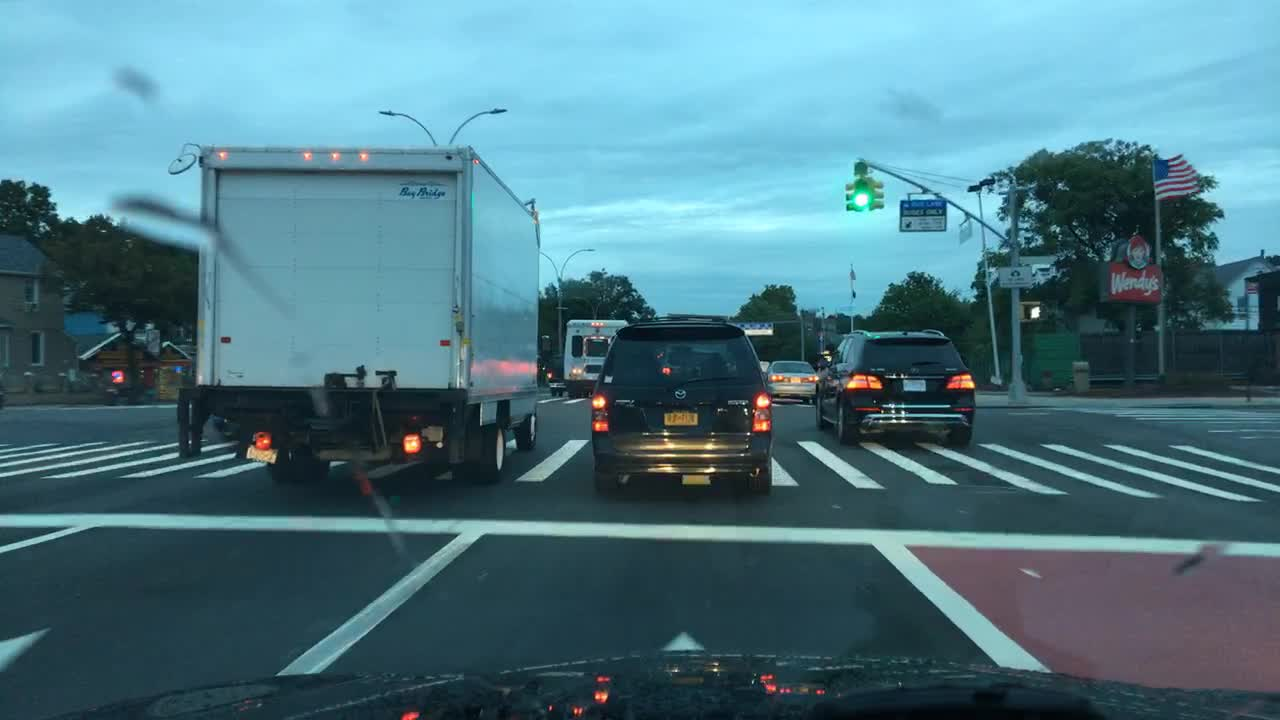car: (591, 313, 769, 490), (815, 329, 974, 445), (763, 360, 821, 405), (545, 339, 569, 397), (757, 360, 771, 374)
traffic light: (851, 179, 874, 213), (875, 180, 886, 213), (841, 180, 851, 214)
traffic sign: (899, 198, 946, 230), (997, 264, 1033, 289), (744, 321, 774, 335), (146, 327, 159, 340), (150, 340, 159, 355)
truck: (178, 149, 541, 483), (564, 318, 631, 399)
